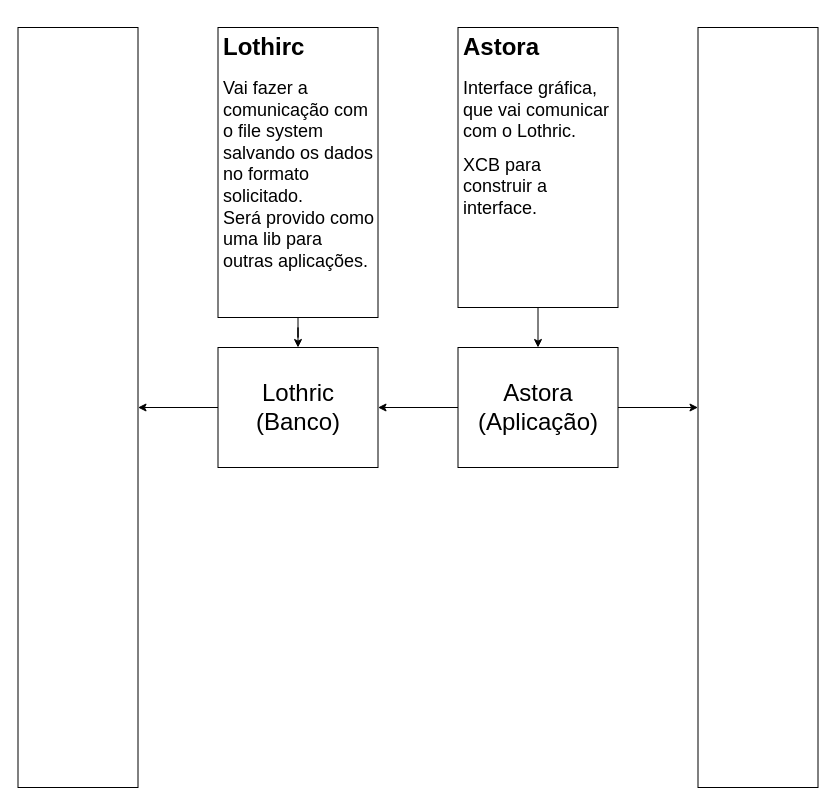
This 835x805 diagram has some shape labels left out. The shapes that lost their labels are listed below. From the top down, each one's centre as x and y in pixels, then its label:
At (x=77, y=407): "File System".
At (x=757, y=407): "End User".
